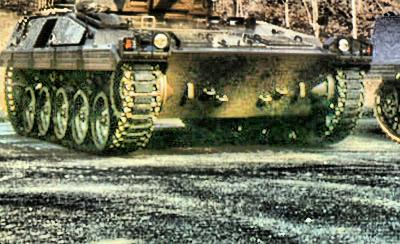tanks: (1, 1, 371, 155), (371, 16, 400, 143)
